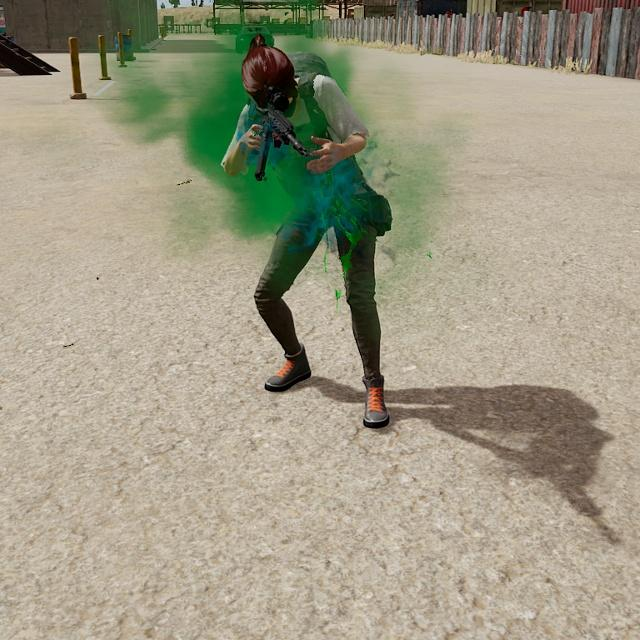head: (236, 39, 308, 121)
people: (210, 36, 408, 436)
